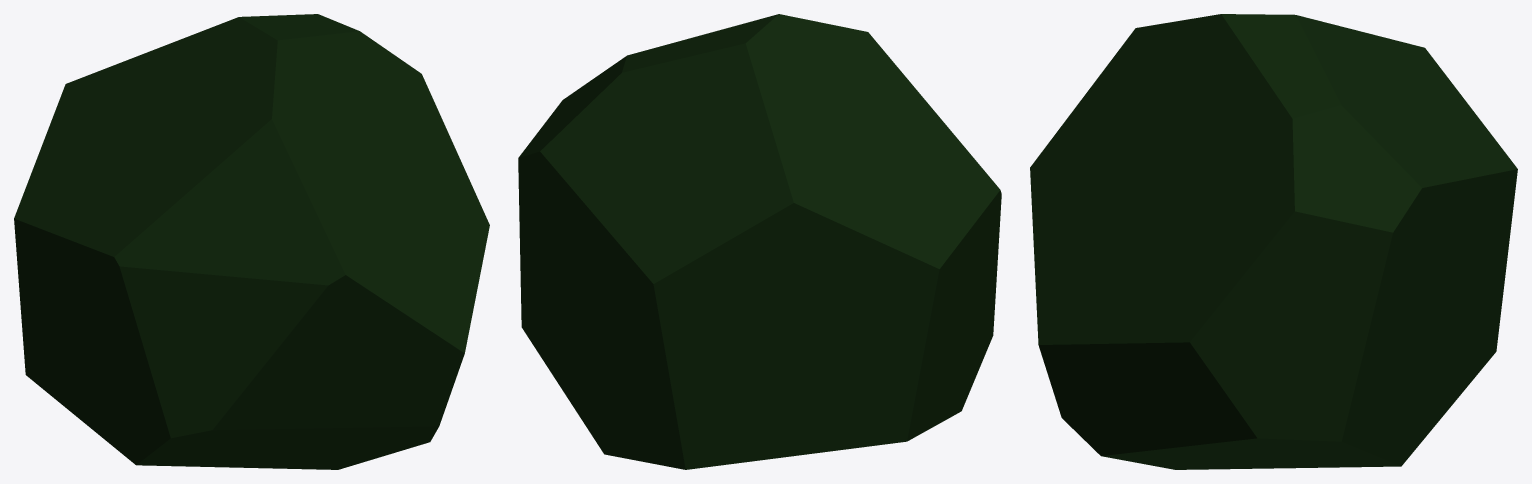
Rendered from StoneMediumLarge3.fbx.
3 renders of one model, left to right at view 1: azimuth 30°, elevation 25°; view 2: azimuth 150°, elevation 25°; view 3: azimuth 270°, elevation 25°, orthographic. The views are drawn at different scales.
Parts seen in each view (by area): view 1: StoneMediumLarge3; view 2: StoneMediumLarge3; view 3: StoneMediumLarge3.
Boxes of the visible parts, left/top/right/bottom form: StoneMediumLarge3: left=14, top=14, right=489, bottom=469; StoneMediumLarge3: left=518, top=14, right=1001, bottom=469; StoneMediumLarge3: left=1030, top=14, right=1517, bottom=469.
Size of the model in its own units: 262 by 256 by 259.
Materials: 1 (1 with a texture image).
